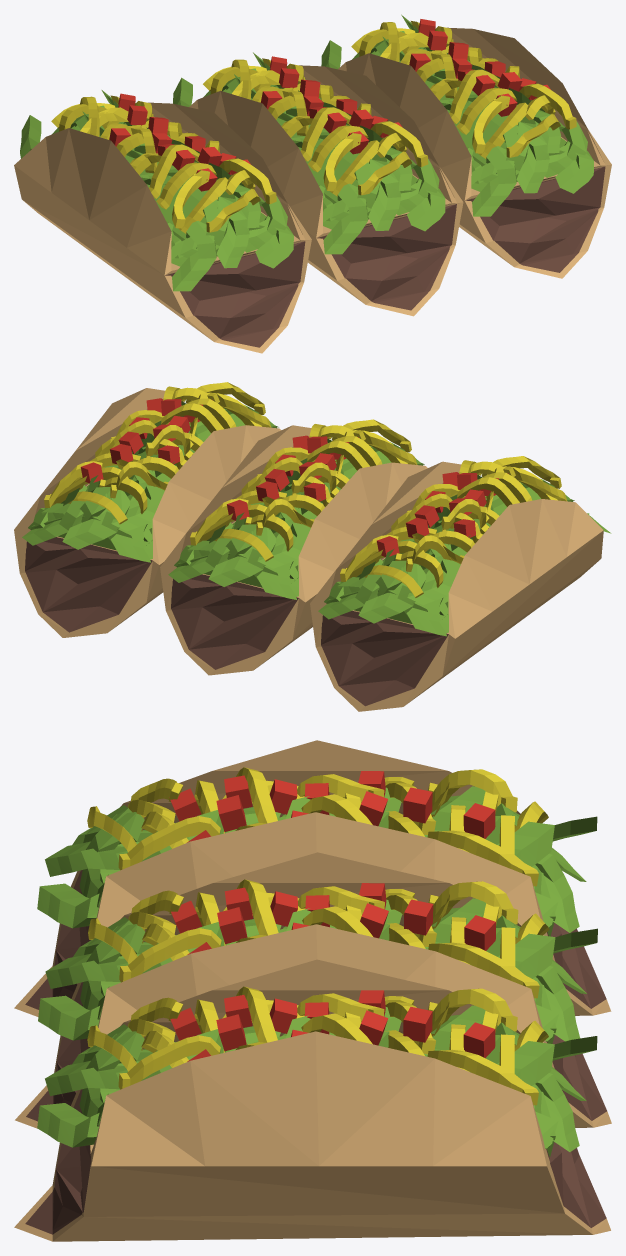
3 renders of one model, top to bottom at view 1: azimuth 30°, elevation 25°; view 2: azimuth 150°, elevation 25°; view 3: azimuth 270°, elevation 25°, orthographic. The views are drawn at different scales.
Parts seen in each view (by area): view 1: node_MeshObject-1394798784-PolyPaper12, node_MeshObject-320721536-PolyPaper9, node_MeshObject1040365504-PolyPaper9; view 2: node_MeshObject-1394798784-PolyPaper12, node_MeshObject-320721536-PolyPaper9, node_MeshObject1040365504-PolyPaper9; view 3: node_MeshObject-1394798784-PolyPaper12, node_MeshObject-320721536-PolyPaper9, node_MeshObject1040365504-PolyPaper9.
Part boxes in pixels (<box>): node_MeshObject-1394798784-PolyPaper12: <box>14,27,611,353</box>; node_MeshObject-320721536-PolyPaper9: <box>116,14,576,316</box>; node_MeshObject1040365504-PolyPaper9: <box>20,19,593,268</box>; node_MeshObject-1394798784-PolyPaper12: <box>14,388,611,711</box>; node_MeshObject-320721536-PolyPaper9: <box>44,382,499,675</box>; node_MeshObject1040365504-PolyPaper9: <box>50,399,566,636</box>; node_MeshObject-1394798784-PolyPaper12: <box>14,740,611,1241</box>; node_MeshObject-320721536-PolyPaper9: <box>15,787,611,1128</box>; node_MeshObject1040365504-PolyPaper9: <box>37,767,597,1147</box>.
Bounding box in the file's own units: 0.8171 × 0.2731 × 0.625.
